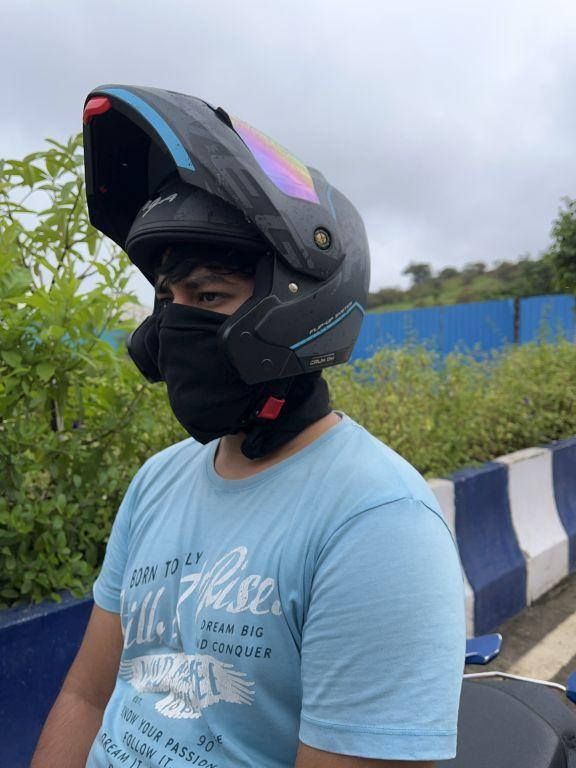helmet: (65, 72, 377, 441)
